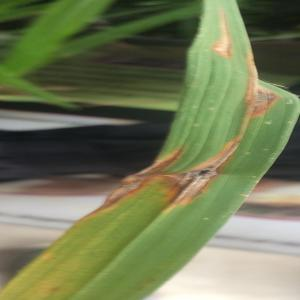Rice_Blast: (96, 129, 191, 206), (173, 127, 252, 214), (237, 51, 300, 125), (204, 9, 241, 58)
